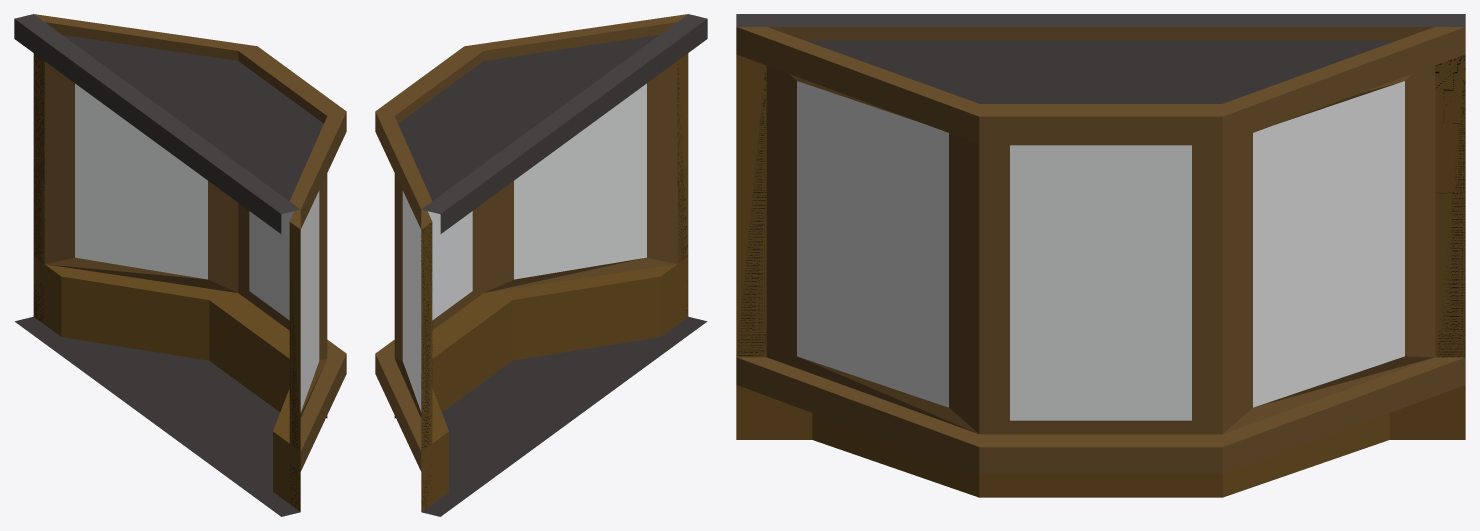
File: obj_bay_window_0.obj
3 views of the same model, side by side, from view 1: azimuth 30°, elevation 25°; view 2: azimuth 150°, elevation 25°; view 3: azimuth 270°, elevation 25° (orthographic). The views are drawn at different scales.
Size of the model in its own units: 1 by 1.88 by 3.
